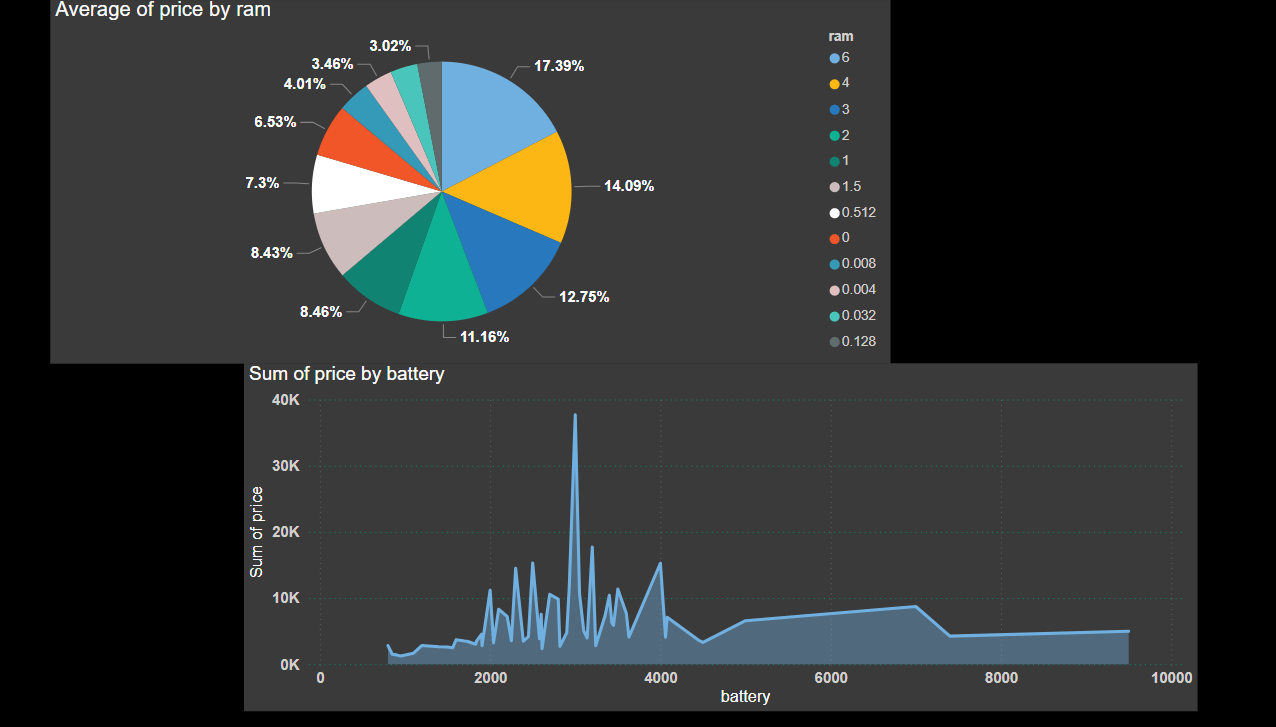

Layout of this report page (visuals, bound fields, positions):
{"tool":"powerbi","page":{"name":"Page 1","canvas":[1280,720],"ordinal":0},"visuals":[{"type":"pieChart","fields":{"Category":["Sheet1.ram"],"Y":["Avg(Sheet1.price)"]},"box":[75.4,0,824.9,359.8],"z":0},{"type":"lineChart","fields":{"Category":["Sheet1.battery"],"Y":["Sum(Sheet1.price)"]},"box":[264.5,359.8,935.8,341.3],"z":1000}]}

Visuals, with their boxes in screenshot pixels (x1, y1, x2, y2), scaled from the page's 1280x720 canvas onto the 1276x727 screenshot:
pieChart - Sheet1.ram x Avg(Sheet1.price): region(75, 0, 897, 363)
lineChart - Sheet1.battery x Sum(Sheet1.price): region(264, 363, 1197, 708)
